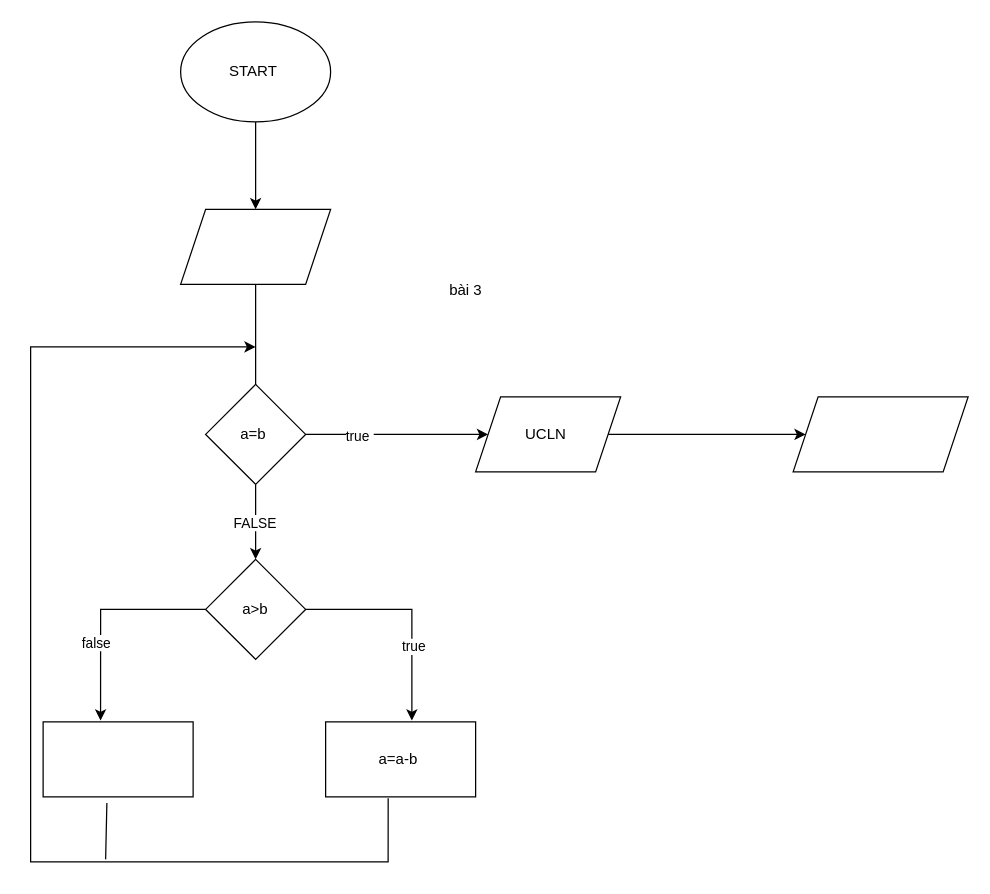
Some shapes in this 990 by 894 pixel diagram are drawn without their labels. The box of each missing label's shape, as (x1, y1, x2, y2) in pixels:
a,b: (179, 208, 331, 284)
a= b-a: (42, 721, 193, 797)
BCLN= a*b/UCLN: (792, 396, 968, 472)
